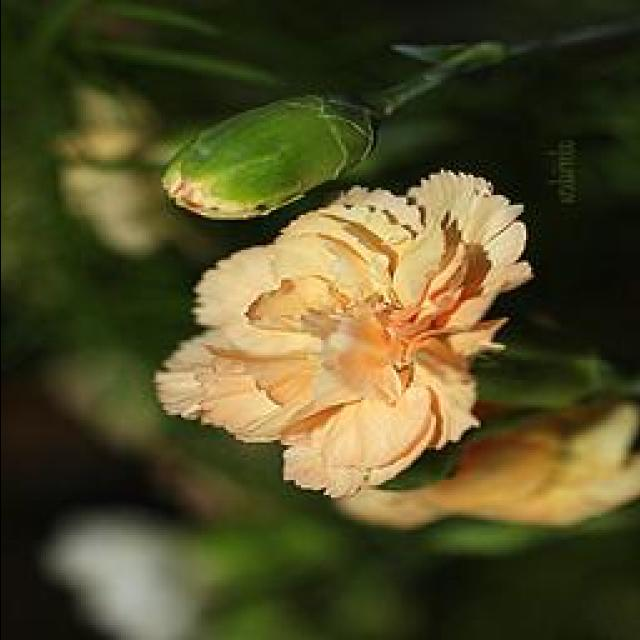carnation: (162, 148, 550, 508)
